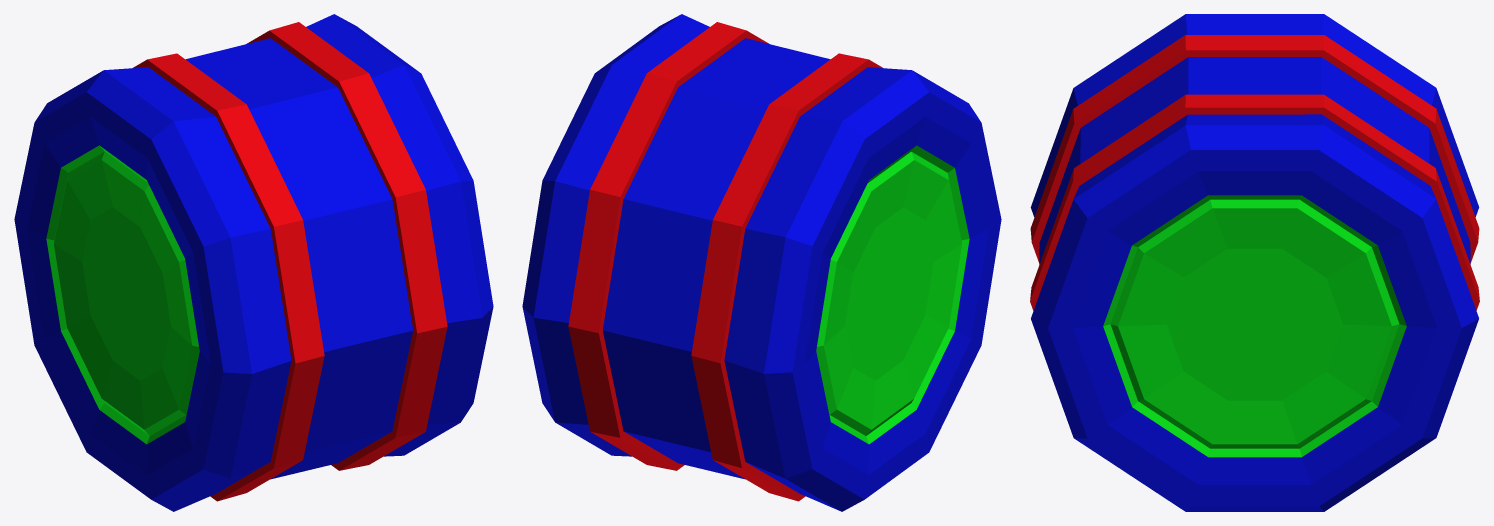
Rendered from SM_Short_HayBale.fbx.
3 views of the same model, side by side, from view 1: azimuth 30°, elevation 25°; view 2: azimuth 150°, elevation 25°; view 3: azimuth 270°, elevation 25° (orthographic).
Parts seen in each view (by area): view 1: SM_Short_HayBale; view 2: SM_Short_HayBale; view 3: SM_Short_HayBale.
Part boxes in pixels (x1,y1,x2,y2): SM_Short_HayBale: (14, 14, 493, 511); SM_Short_HayBale: (522, 14, 1001, 511); SM_Short_HayBale: (1030, 14, 1479, 511).
Bounding box in the file's own units: 40.08 × 55.55 × 58.4.
